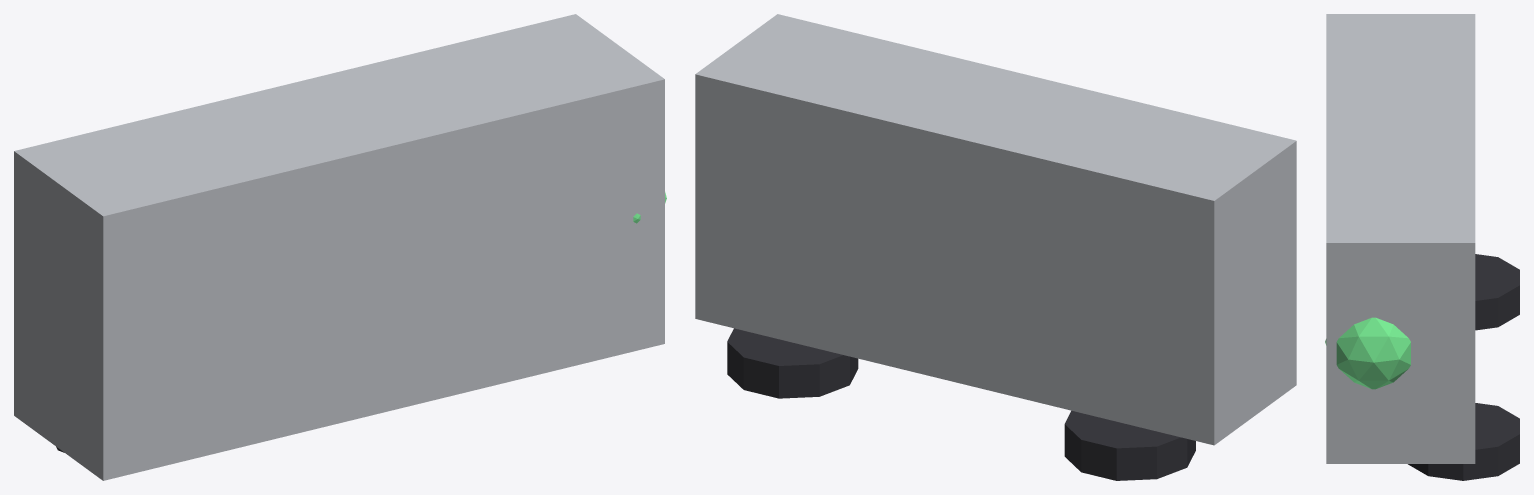
The model's file is mount_saddle_station.glb.
3 renders of one model, left to right at view 1: azimuth 30°, elevation 25°; view 2: azimuth 150°, elevation 25°; view 3: azimuth 270°, elevation 25°, orthographic. The views are drawn at different scales.
Parts seen in each view (by area): view 1: vehicle_body; view 2: vehicle_body, wheel_a, wheel_b; view 3: vehicle_body, engine_glow, wheel_b, wheel_a.
Boxes of the visible parts, x1,y1,x2,y2 form: vehicle_body: [14, 14, 664, 480]; vehicle_body: [695, 14, 1296, 445]; wheel_a: [1064, 410, 1195, 480]; wheel_b: [727, 328, 858, 398]; vehicle_body: [1326, 14, 1475, 463]; engine_glow: [1325, 317, 1410, 389]; wheel_b: [1408, 403, 1519, 480]; wheel_a: [1475, 254, 1519, 330].
Bounding box in the file's own units: 2.08 × 1.03 × 0.7192.
